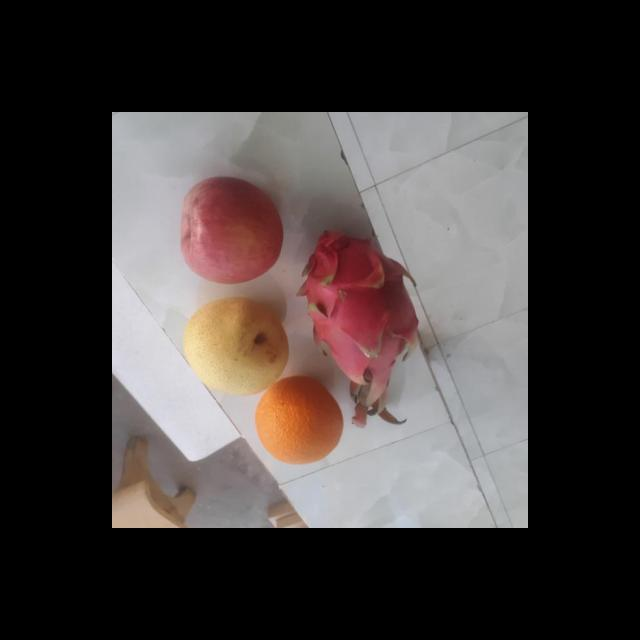apple: (174, 180, 284, 284)
orange: (252, 376, 342, 463)
pear: (179, 300, 290, 394)
pitaya: (296, 230, 416, 389)
